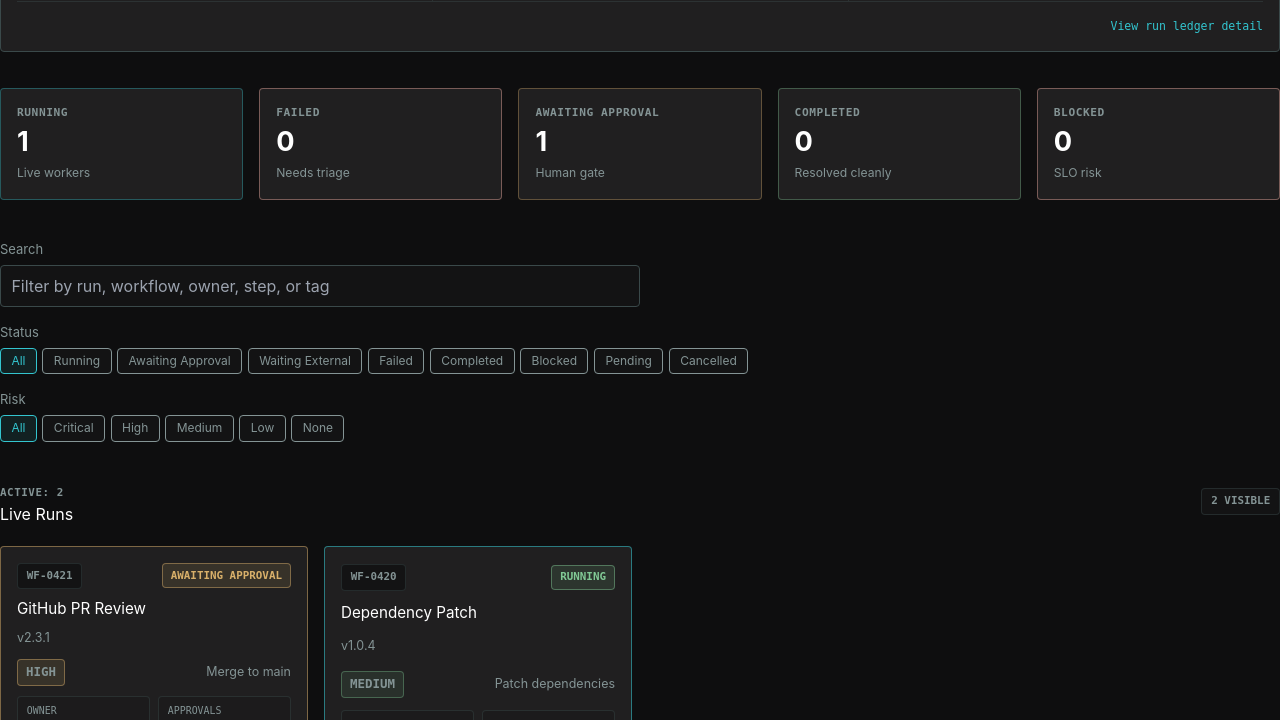
it: RunBoard integration › loads runs, filters by status, and navigates to detail
(page scrolled)
Click the button "Running" at (77,361), box [42,348,112,374]
(page scrolled)
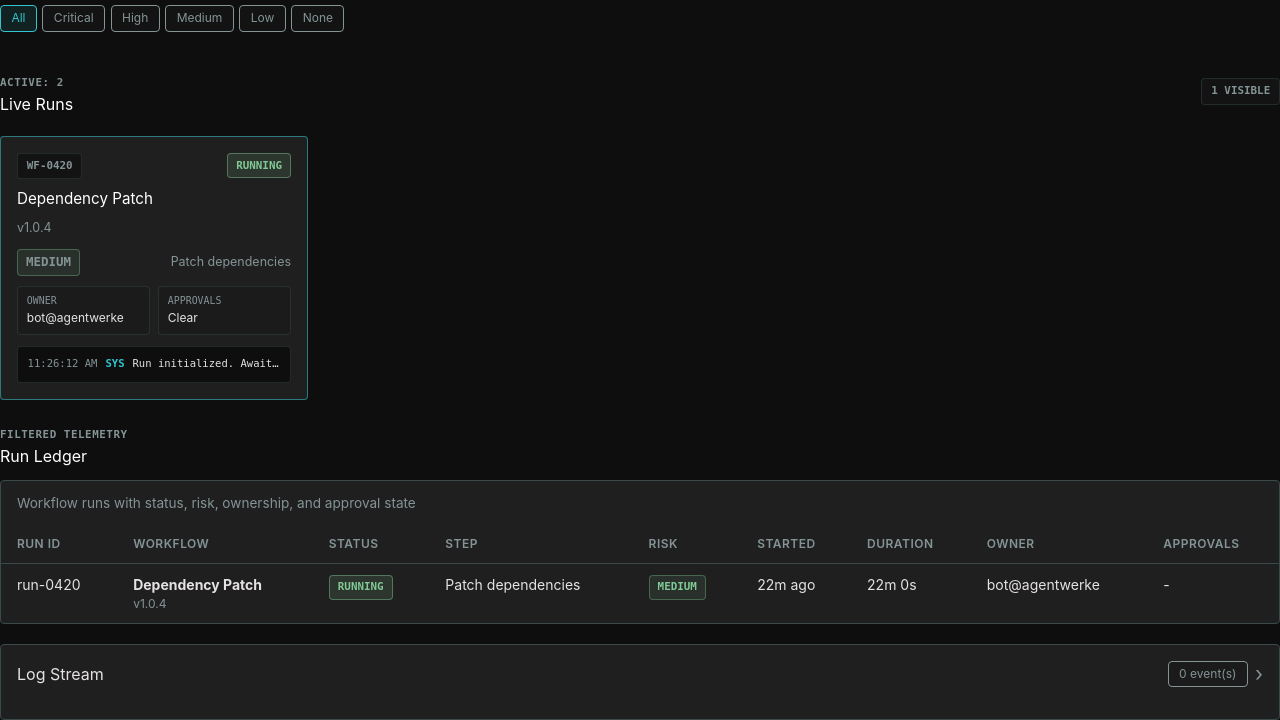
Expected: the text "run-0420" is shown, [1,564,117,623]
Now the text "run-0421" is gone
